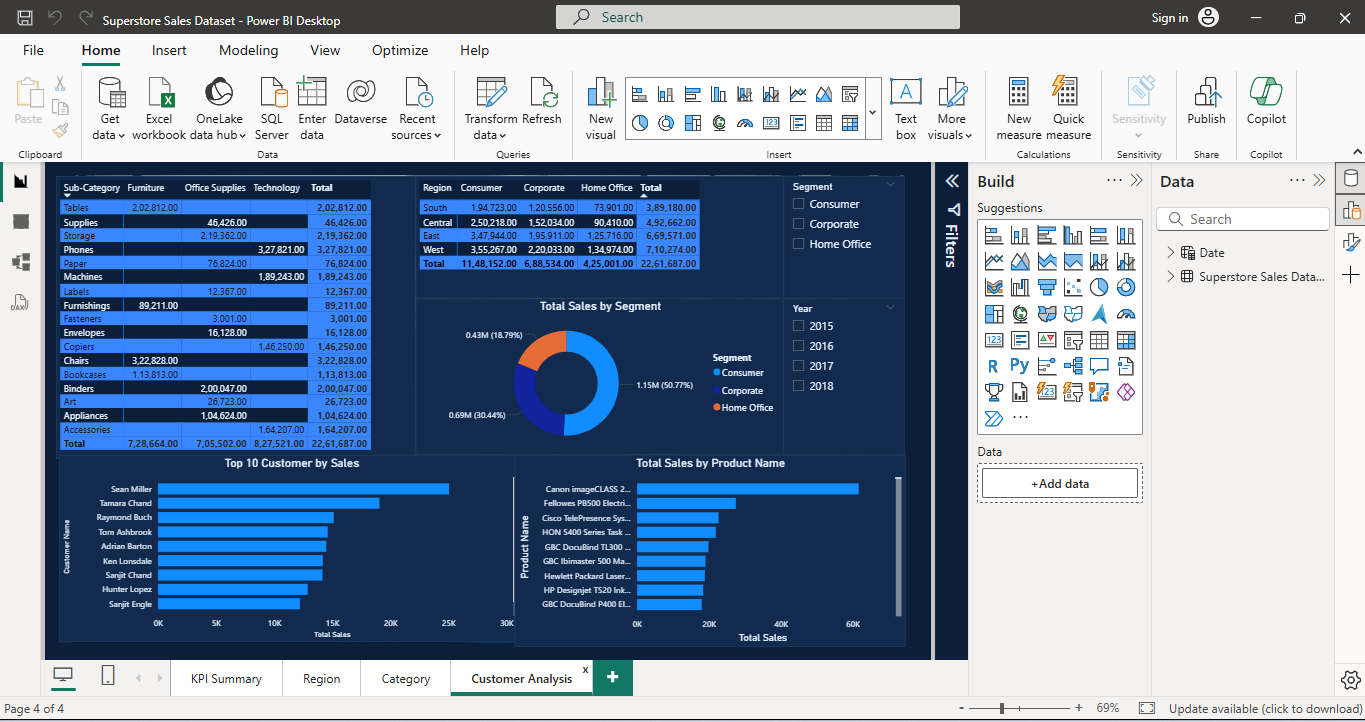

Layout of this report page (visuals, bound fields, positions):
{"tool":"powerbi","page":{"name":"Customer Analysis","canvas":[1280,720],"ordinal":3},"visuals":[{"type":"pivotTable","fields":{"Rows":["Superstore Sales Dataset.Sub-Category"],"Columns":["Superstore Sales Dataset.Category"],"Values":["DateTable.Total Sales"]},"box":[15.9,20.3,519.5,408.1],"z":0},{"type":"slicer","fields":{"Values":["Superstore Sales Dataset.Segment"]},"box":[1066.5,20.3,173.7,176.5],"z":1000},{"type":"clusteredBarChart","fields":{"Category":["Superstore Sales Dataset.Customer Name"],"Y":["Sum(Superstore Sales Dataset.Sales)"]},"box":[20.3,422.6,670,270.6],"z":2000},{"type":"donutChart","fields":{"Category":["Superstore Sales Dataset.Segment"],"Y":["Sum(Superstore Sales Dataset.Sales)"]},"box":[535.4,196.8,481.9,231.5],"z":3000},{"type":"pivotTable","fields":{"Rows":["Superstore Sales Dataset.Region"],"Columns":["Superstore Sales Dataset.Segment"],"Values":["DateTable.Total Sales"]},"box":[535.4,20.3,531.1,176.5],"z":4000},{"type":"slicer","fields":{"Values":["DateTable.Year"]},"box":[1016.6,197.2,223.7,226.4],"z":5000},{"type":"clusteredBarChart","fields":{"Category":["Superstore Sales Dataset.Product Name"],"Y":["DateTable.Total Sales"]},"box":[677.2,422.6,564.4,277.8],"z":6000}]}

Visuals, with their boxes on the page's 1280x720 design canvas (x1, y1, x2, y2). These are canvas units, not pixel positions in the 1365x722 screenshot, which may show the page scaled, cropped or inside an application window:
pivotTable - Superstore Sales Dataset.Sub-Category x Superstore Sales Dataset.Category: pyautogui.locateOnScreen(16, 20, 535, 428)
slicer - Superstore Sales Dataset.Segment: pyautogui.locateOnScreen(1066, 20, 1240, 197)
clusteredBarChart - Superstore Sales Dataset.Customer Name x Sum(Superstore Sales Dataset.Sales): pyautogui.locateOnScreen(20, 423, 690, 693)
donutChart - Superstore Sales Dataset.Segment x Sum(Superstore Sales Dataset.Sales): pyautogui.locateOnScreen(535, 197, 1017, 428)
pivotTable - Superstore Sales Dataset.Region x Superstore Sales Dataset.Segment: pyautogui.locateOnScreen(535, 20, 1066, 197)
slicer - DateTable.Year: pyautogui.locateOnScreen(1017, 197, 1240, 424)
clusteredBarChart - Superstore Sales Dataset.Product Name x DateTable.Total Sales: pyautogui.locateOnScreen(677, 423, 1242, 700)
